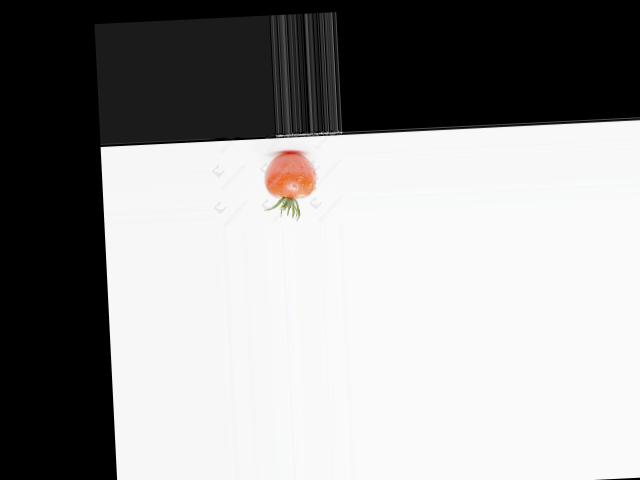tomato: (262, 150, 315, 199)
